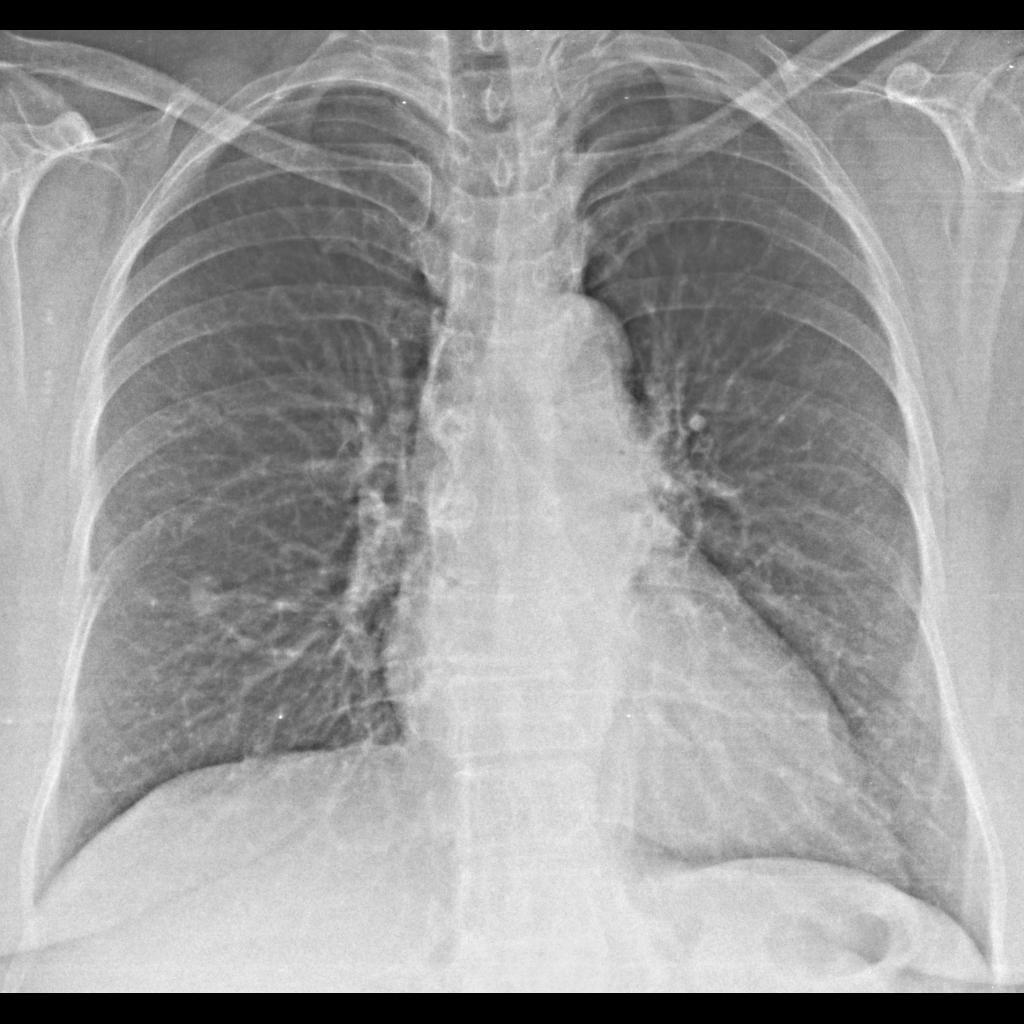Nodule: (177, 554, 234, 627)
